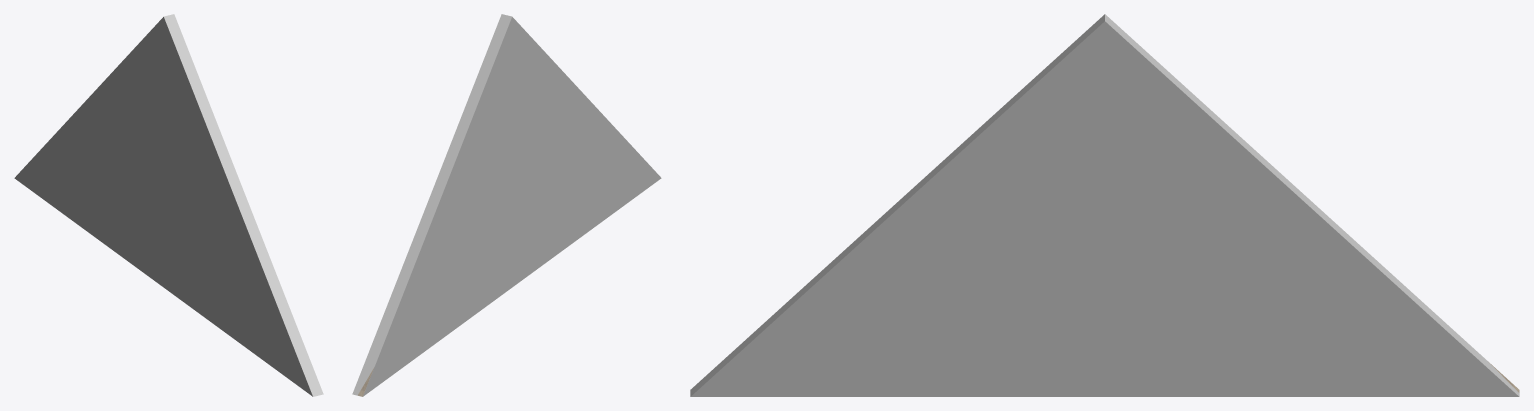
File: SM_Wall_Top_03.fbx
The picture shows the model from 3 angles, left to right: view 1: azimuth 30°, elevation 25°; view 2: azimuth 150°, elevation 25°; view 3: azimuth 270°, elevation 25°; orthographic projection. The views are drawn at different scales.
Parts seen in each view (by area): view 1: SM_Wall_Top_03_ConvexHulls; view 2: SM_Wall_Top_03_ConvexHulls; view 3: SM_Wall_Top_03_ConvexHulls.
Part boxes in pixels (x1=…): SM_Wall_Top_03_ConvexHulls: x1=14, y1=14, x2=323, y2=396; SM_Wall_Top_03_ConvexHulls: x1=352, y1=14, x2=661, y2=396; SM_Wall_Top_03_ConvexHulls: x1=690, y1=14, x2=1519, y2=396.
Size of the model in its own units: 12.27 by 600 by 300.
